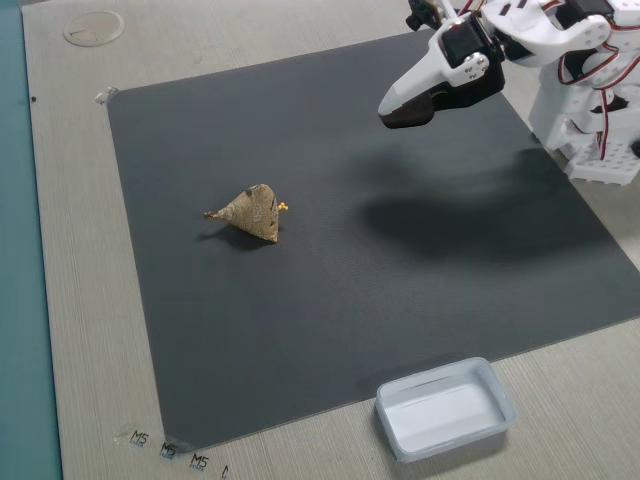gripper: (376, 23, 506, 119)
